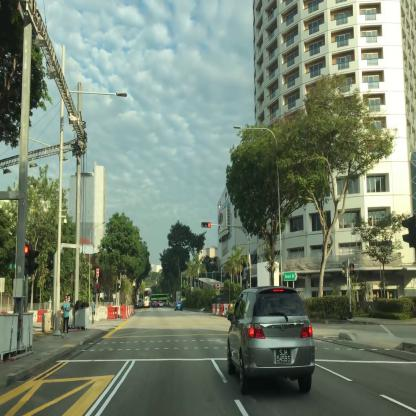red_traffic_light: (201, 222, 211, 228)
